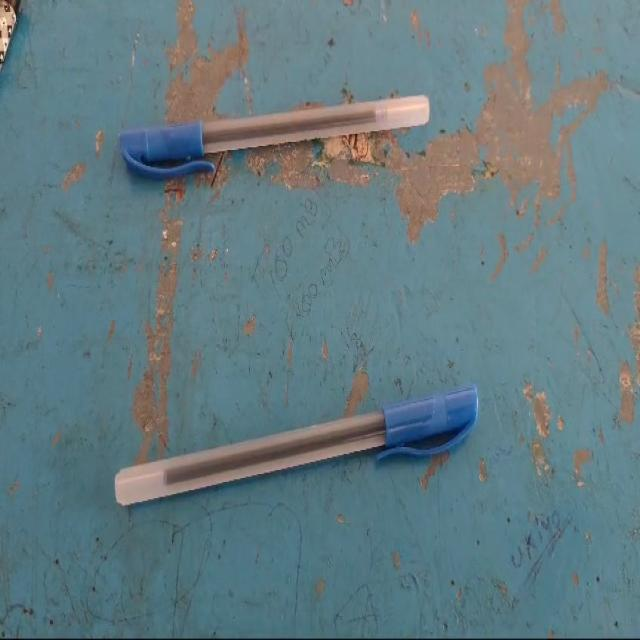pen: (29, 344, 511, 555), (96, 32, 460, 216)
